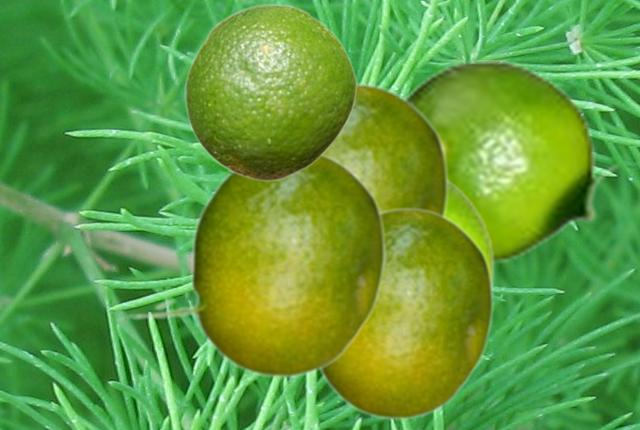calamansi: (125, 152, 385, 377), (183, 81, 448, 259), (402, 60, 621, 264), (317, 206, 493, 419), (184, 3, 356, 181), (447, 175, 495, 305)
